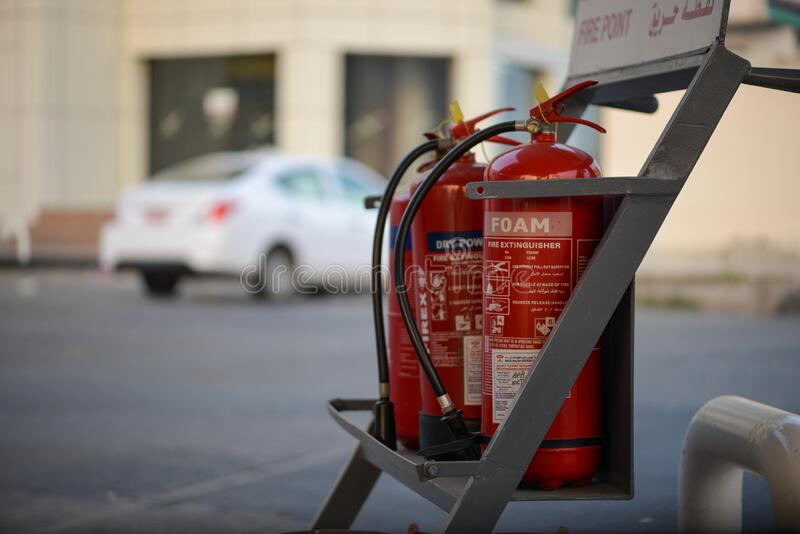fire_extinguisher: (380, 78, 612, 491), (476, 78, 608, 491), (385, 100, 521, 453)
